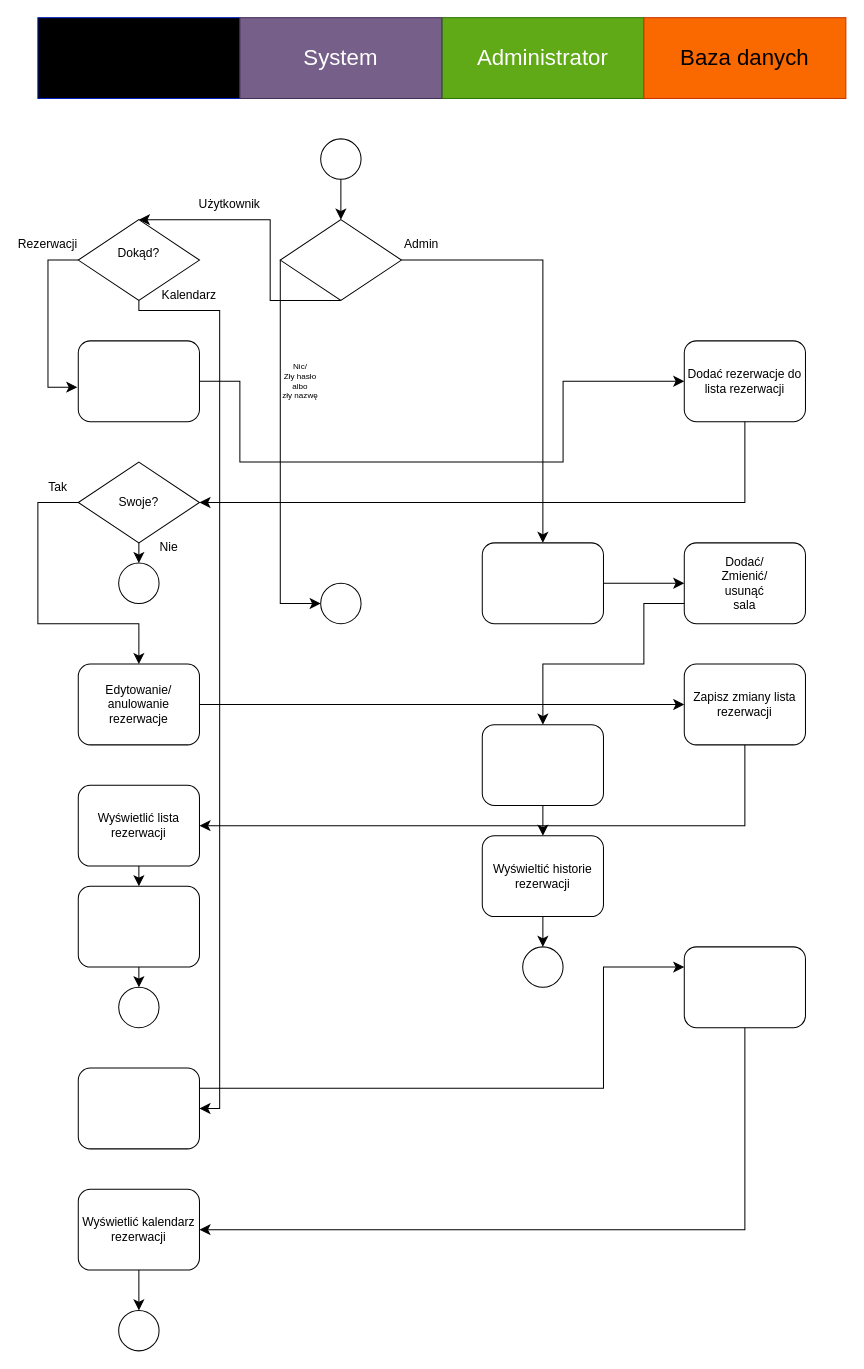
This 864x1369 diagram has some shape labels left out. The shapes that lost their labels are listed below. From the top down, each one's centre as x and y in pixels, then its label:
At pixel 340 259: "Weryfikowane?".
At pixel 138 381: "Zrobić rezerwacje".
At pixel 542 583: "Aktualizować/ Usunąć/ stworzyć sala".
At pixel 542 764: "Wyświeltić lista sali".
At pixel 138 926: "Wyświetlić historie rezerwacji".
At pixel 744 987: "Sprawdż daty rezerwacji".
At pixel 138 1108: "Kalendarz rezerwacje".
